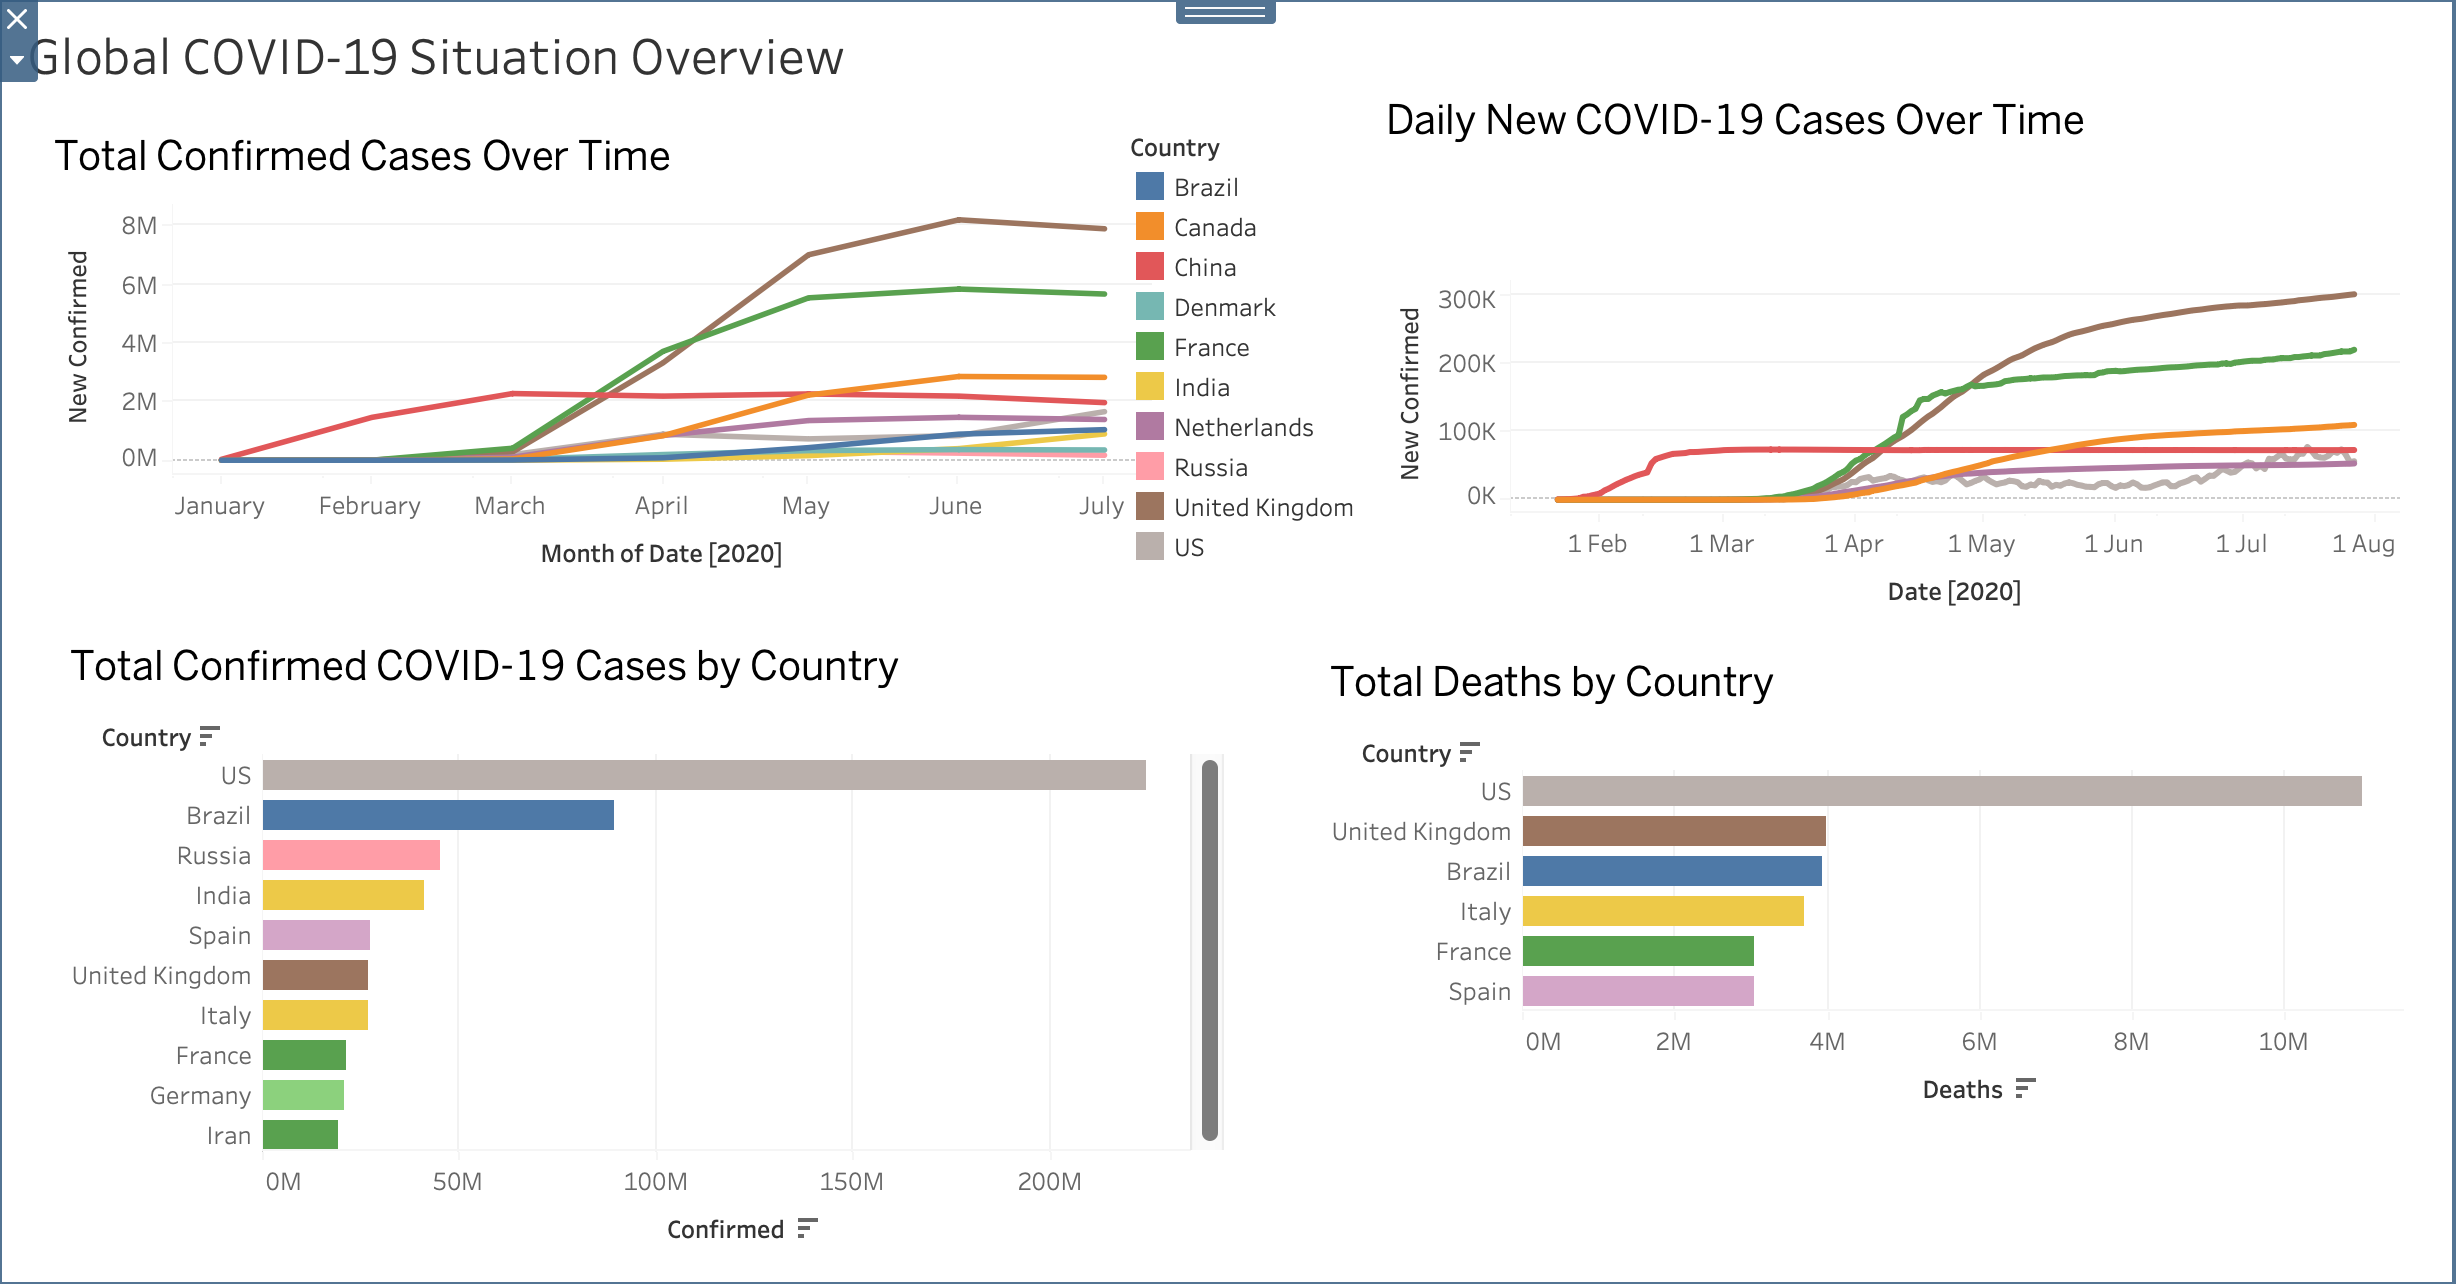

Layout of this report page (visuals, bound fields, positions):
{"tool":"tableau","page":{"name":"Dashboard 1","canvas":[1000,1000],"units":"permille","ordinal":0},"visuals":[{"type":"title","box":[6.5,12.4,987,65.2]},{"type":"worksheet","title":"Sheet 2","mark":"Automatic","rows":["New_Confirmed"],"cols":["Date"],"box":[561.4,68.3,415.8,416.2]},{"type":"worksheet","title":"Sheet 1","mark":"Automatic","rows":["New_Confirmed"],"cols":["Date"],"box":[19.5,96.3,450,358.7]},{"type":"legend","title":"Sheet 1","param":"[federated.1c71tu40d6scra17h3v0k0fst9qc].[none:Country:nk]","box":[460.5,102.5,113.9,338.5]},{"type":"worksheet","title":"Sheet 3","mark":"Automatic","rows":["Country"],"cols":["Confirmed"],"box":[26,492.2,472.7,487.6]},{"type":"worksheet","title":"Sheet 4","mark":"Automatic","rows":["Country"],"cols":["Deaths"],"box":[538.6,504.7,440.2,472.1]}]}

Visuals, with their boxes on the dashboard's canvas, which has no fixed pixel size, in thousandths of its width and height (x1, y1, x2, y2). These are canvas units, not pixel positions in the 2456x1284 screenshot, which may show the page scaled, cropped or inside an application window:
title: (6, 12, 994, 78)
"Sheet 2" worksheet: (561, 68, 977, 484)
"Sheet 1" worksheet: (20, 96, 470, 455)
"Sheet 1" legend: (460, 102, 574, 441)
"Sheet 3" worksheet: (26, 492, 499, 980)
"Sheet 4" worksheet: (539, 505, 979, 977)
